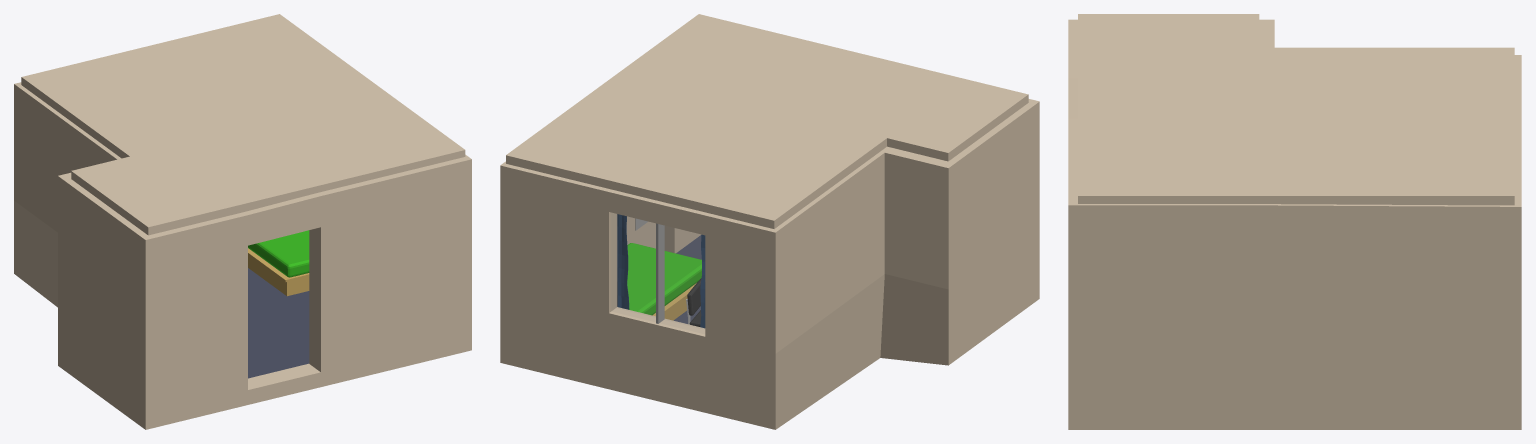
Rendered from room.gltf.
The picture shows the model from 3 angles, left to right: view 1: azimuth 30°, elevation 25°; view 2: azimuth 150°, elevation 25°; view 3: azimuth 270°, elevation 25°; orthographic projection. The views are drawn at different scales.
Visible parts, largest first — view 1: Room, Floor.001, Floor, Mattress, Bed Bottom; view 2: Room, Floor.001, Cube.002, Mattress, Curtains, Cube.003, Floor; view 3: Room, Floor.001.
Part boxes in pixels (x1,y1,x2,y2): Room: (14,82,471,429); Floor.001: (21,14,465,235); Floor: (248,268,309,378); Mattress: (248,230,309,277); Bed Bottom: (248,248,309,296); Room: (500,99,1039,429); Floor.001: (506,14,1028,228); Cube.002: (616,214,704,328); Mattress: (627,243,701,315); Curtains: (617,214,705,328); Cube.003: (656,223,664,323); Floor: (673,235,701,323); Room: (1068,19,1521,429); Floor.001: (1078,14,1514,205).
Size of the model in its own units: 7.75 by 4.76 by 7.94.
